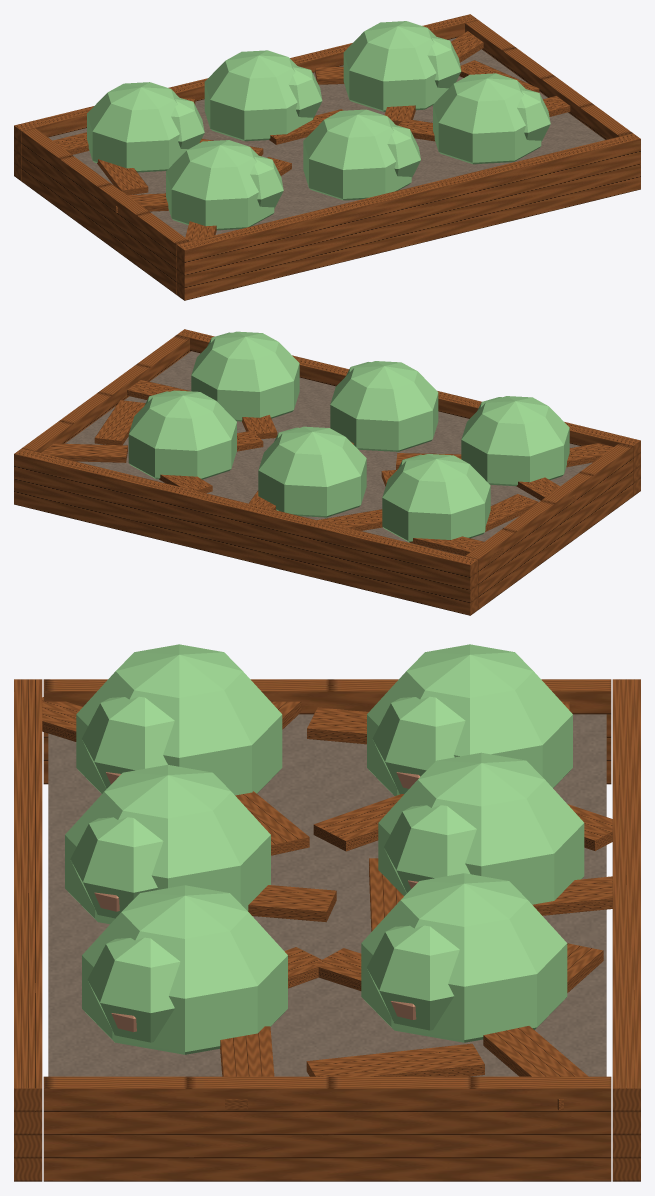
File: allotments-and-community-garden-strawberry-bed-with-st-4bdb53c2__35145.glb
3 renders of one model, top to bottom at view 1: azimuth 30°, elevation 25°; view 2: azimuth 150°, elevation 25°; view 3: azimuth 270°, elevation 25°, orthographic. The views are drawn at different scales.
Visible parts, largest first — view 1: strawberry-bed-with-straw-timber, strawberry-bed-with-straw-leaf, strawberry-bed-with-straw-soil; view 2: strawberry-bed-with-straw-timber, strawberry-bed-with-straw-leaf, strawberry-bed-with-straw-soil; view 3: strawberry-bed-with-straw-leaf, strawberry-bed-with-straw-timber, strawberry-bed-with-straw-soil, strawberry-bed-with-straw-terracotta.
Boxes of the visible parts, x1=… form: strawberry-bed-with-straw-timber: x1=14, y1=14, x2=640, y2=300; strawberry-bed-with-straw-leaf: x1=87, y1=21, x2=550, y2=230; strawberry-bed-with-straw-soil: x1=48, y1=38, x2=604, y2=237; strawberry-bed-with-straw-timber: x1=14, y1=329, x2=640, y2=615; strawberry-bed-with-straw-leaf: x1=128, y1=331, x2=569, y2=542; strawberry-bed-with-straw-soil: x1=65, y1=351, x2=592, y2=554; strawberry-bed-with-straw-leaf: x1=65, y1=644, x2=584, y2=1054; strawberry-bed-with-straw-timber: x1=14, y1=679, x2=640, y2=1181; strawberry-bed-with-straw-soil: x1=48, y1=714, x2=606, y2=1076; strawberry-bed-with-straw-terracotta: x1=94, y1=772, x2=420, y2=1032.
Size of the model in its own units: 1.71 by 0.3672 by 1.1.
Materials: 4 (2 with a texture image).
